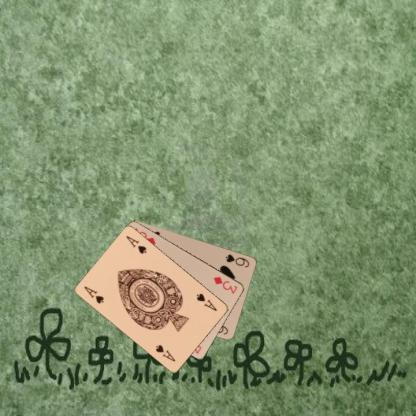3d: (211, 274, 239, 295)
6s: (223, 251, 251, 269)
As: (194, 290, 219, 312), (82, 284, 105, 305)
